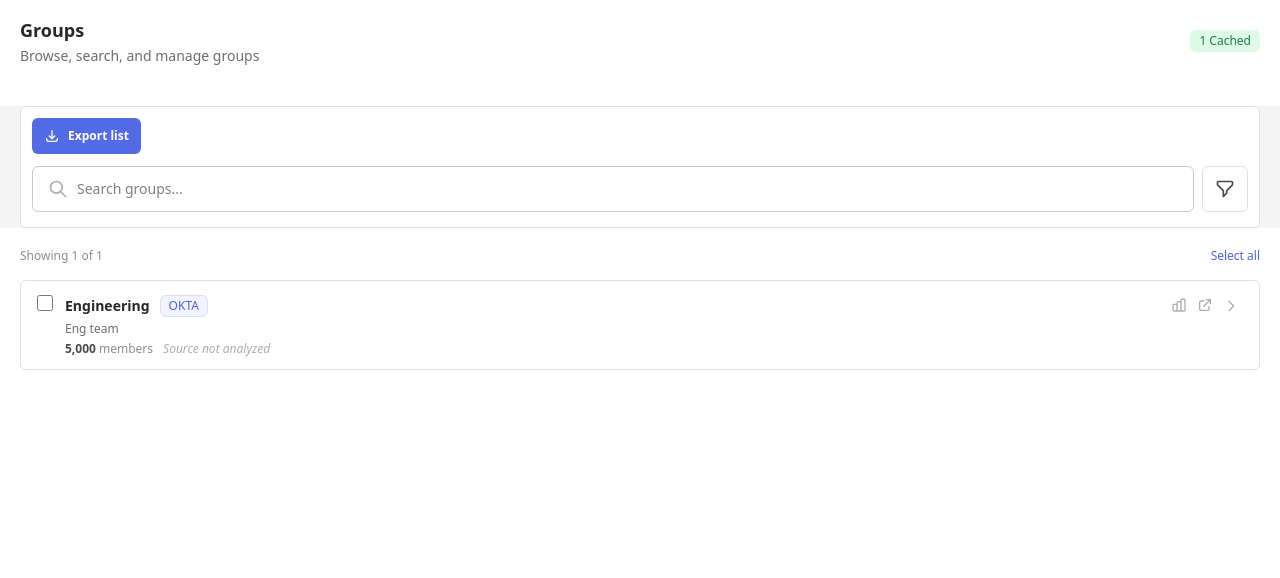
GroupsTab sub-navigation › does not analyze on a plain drill-in when the group is over the auto-load budget
The image size is (1280, 578).
Click the button named "Expand Engineering": (1231, 306) [1219,294,1243,318]
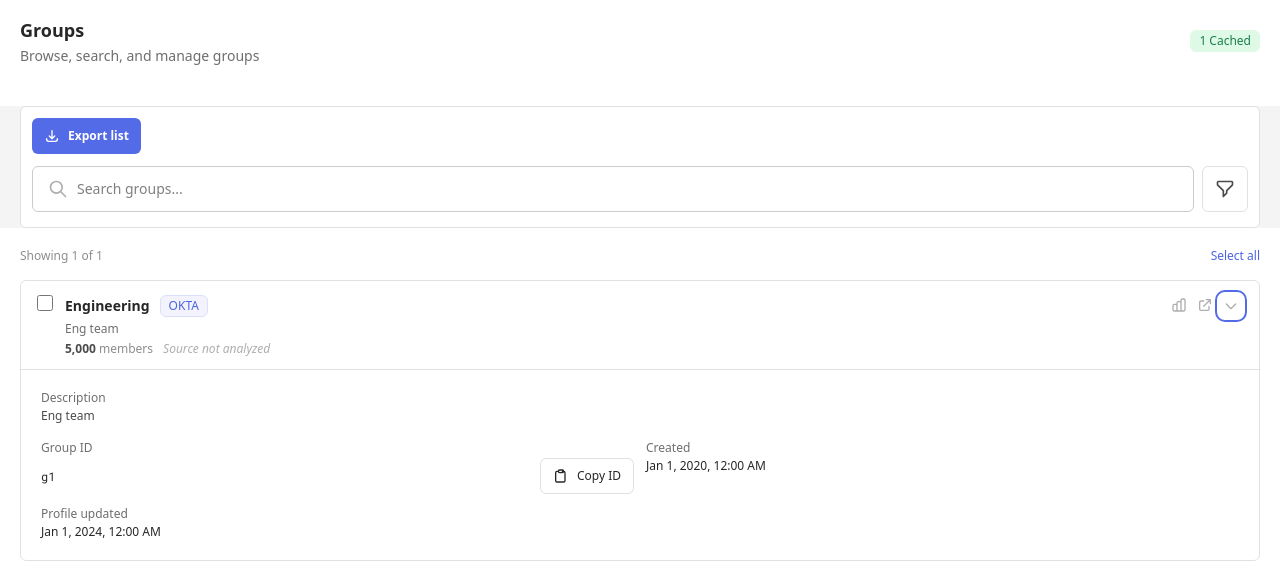
Click the button named "View group details": (640, 325) [21,281,1259,369]
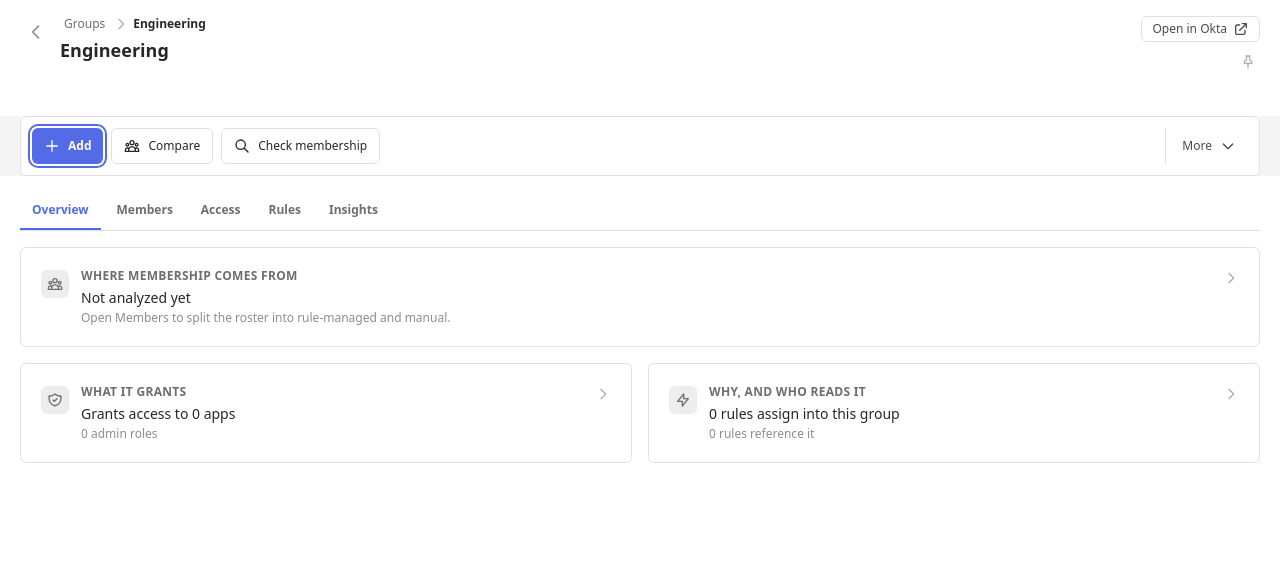
Click the tab "Members": (145, 211) [104,192,185,230]
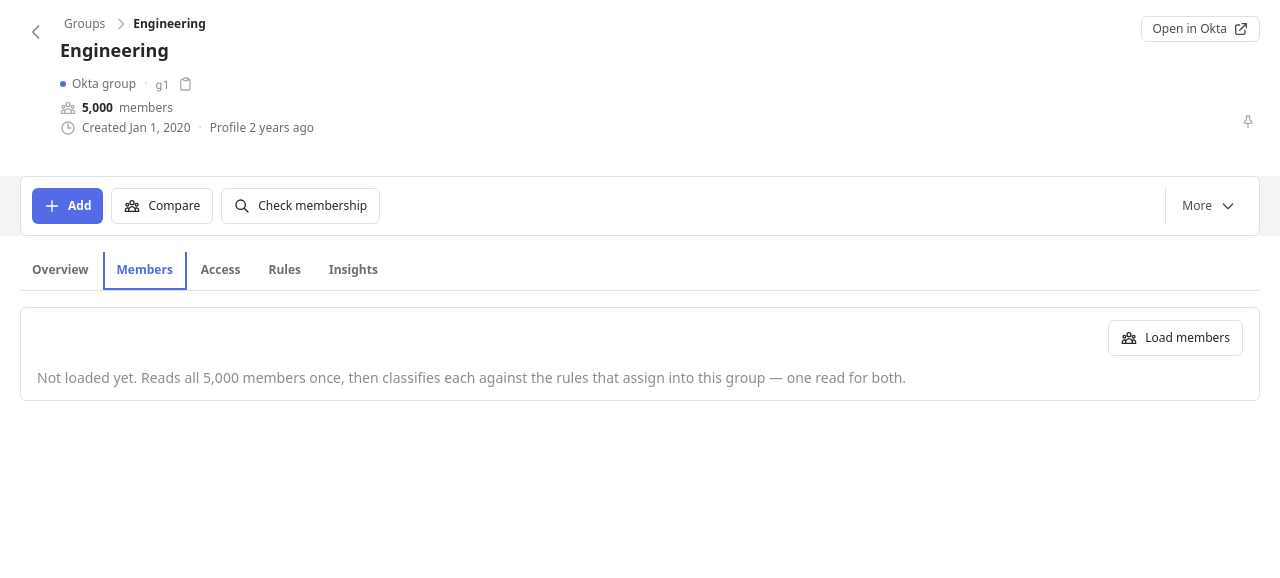
Expected: the button named "Load members" is shown, [1108,320,1243,356]
